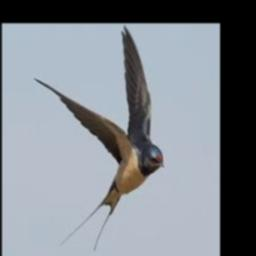Swallow: (32, 23, 164, 250)
